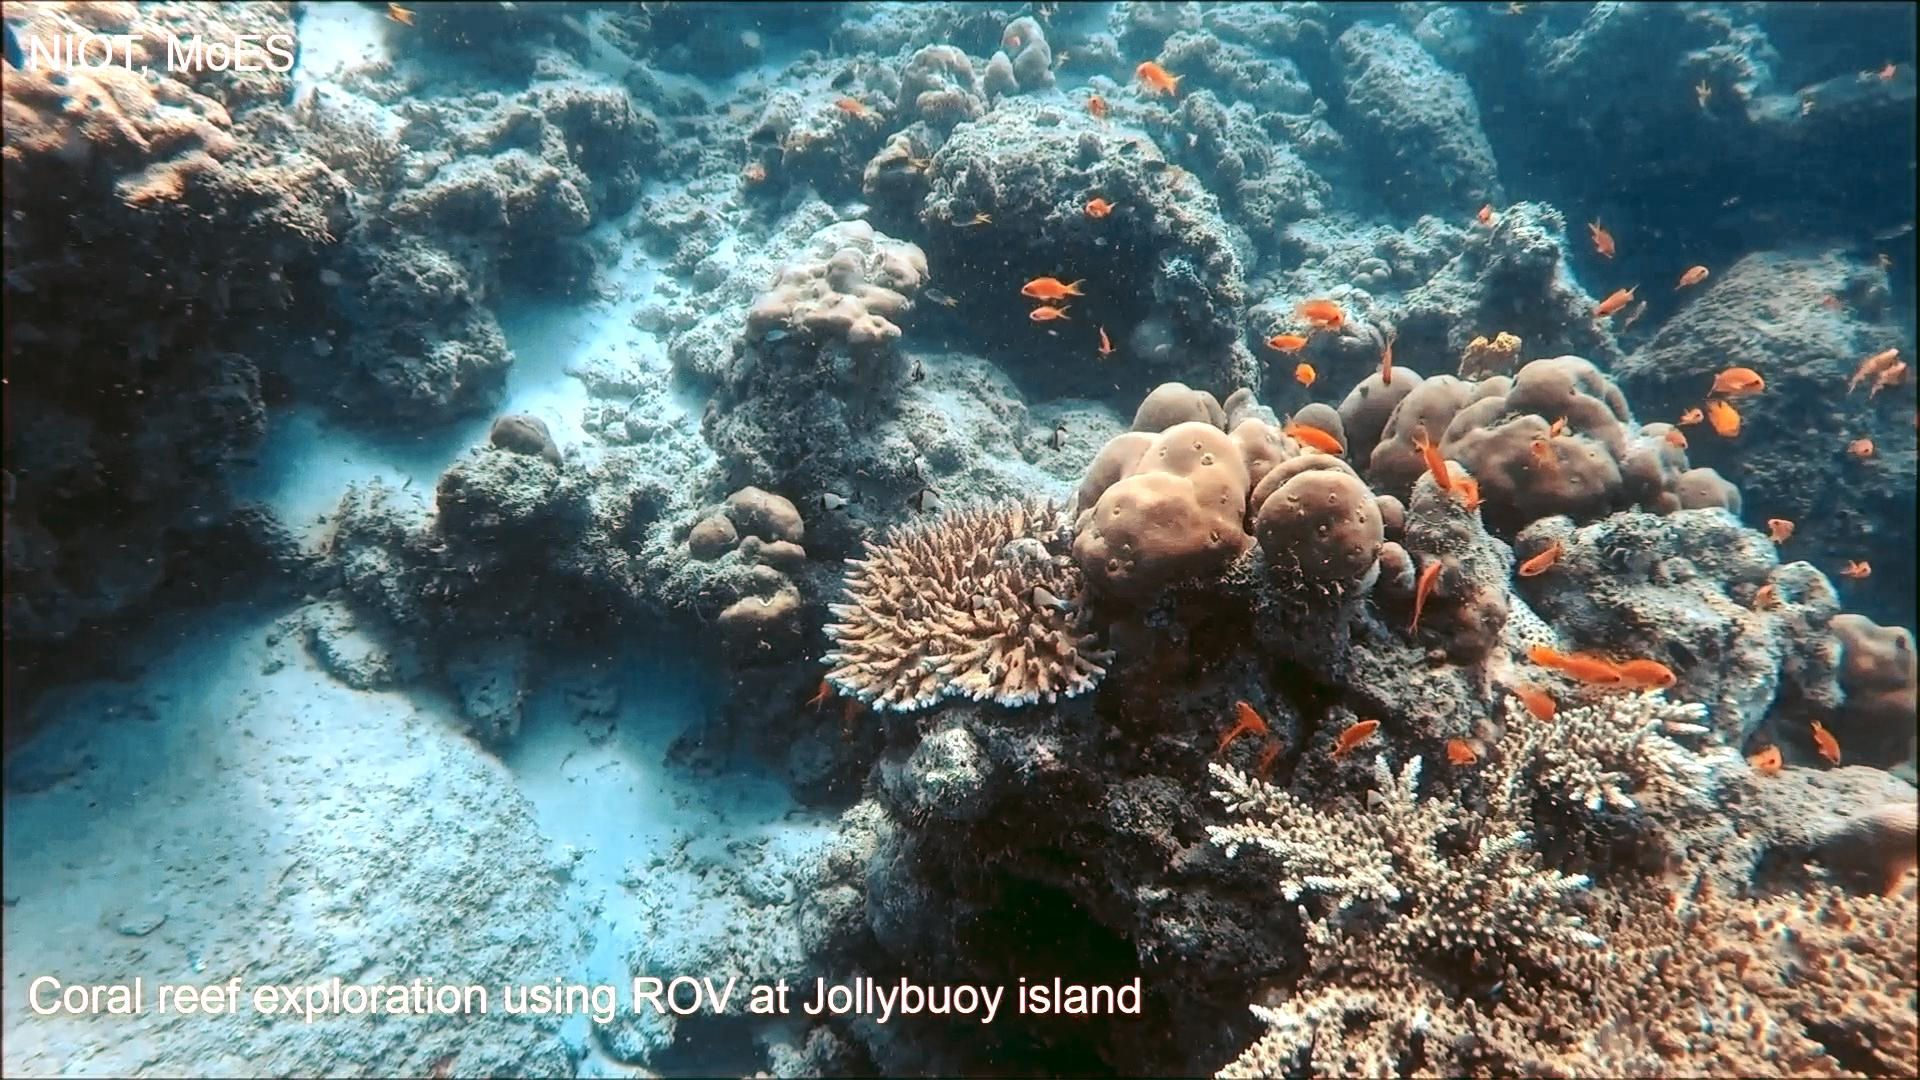Porites-Porites pukoensis: (1051, 378, 1400, 617), (1323, 349, 1747, 527)
